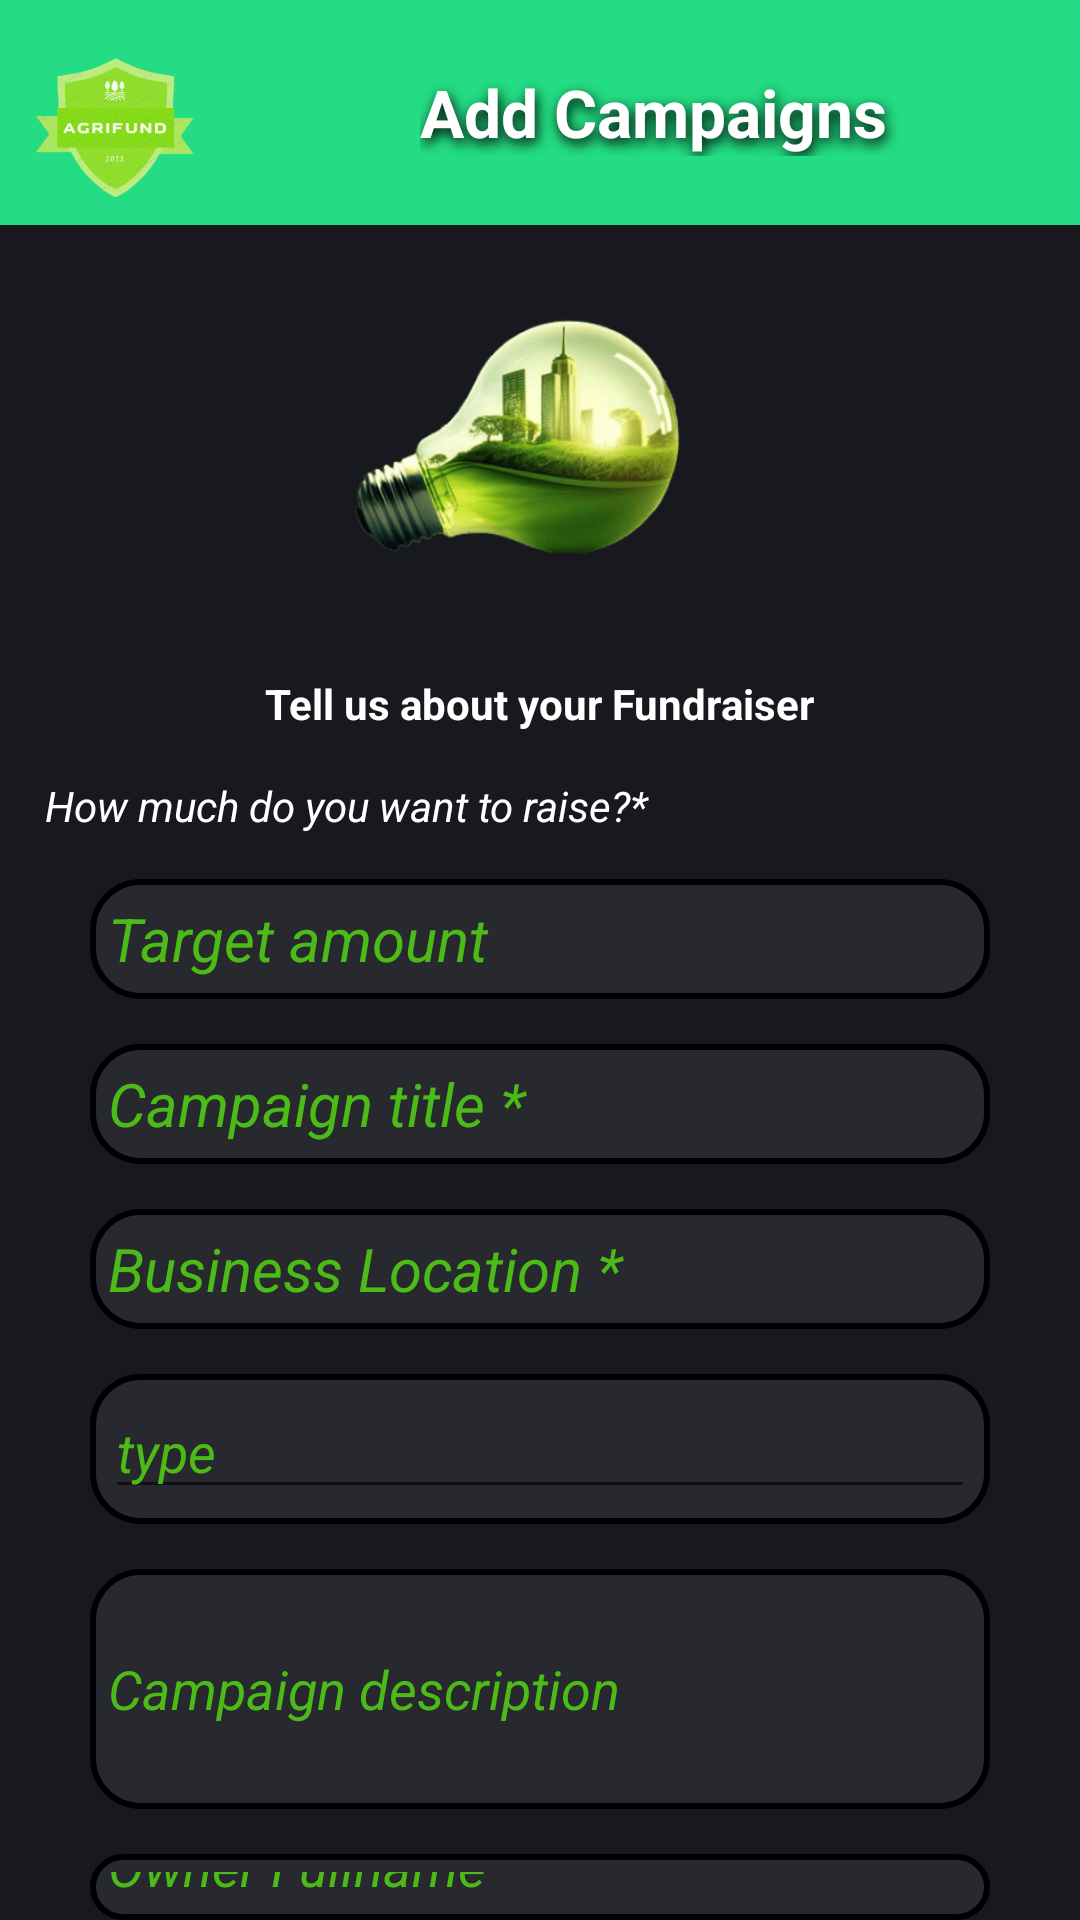

Screen size 1080 × 1920. Icon name, then its center in pixels as [x,y]:
bulb: [518,436]
